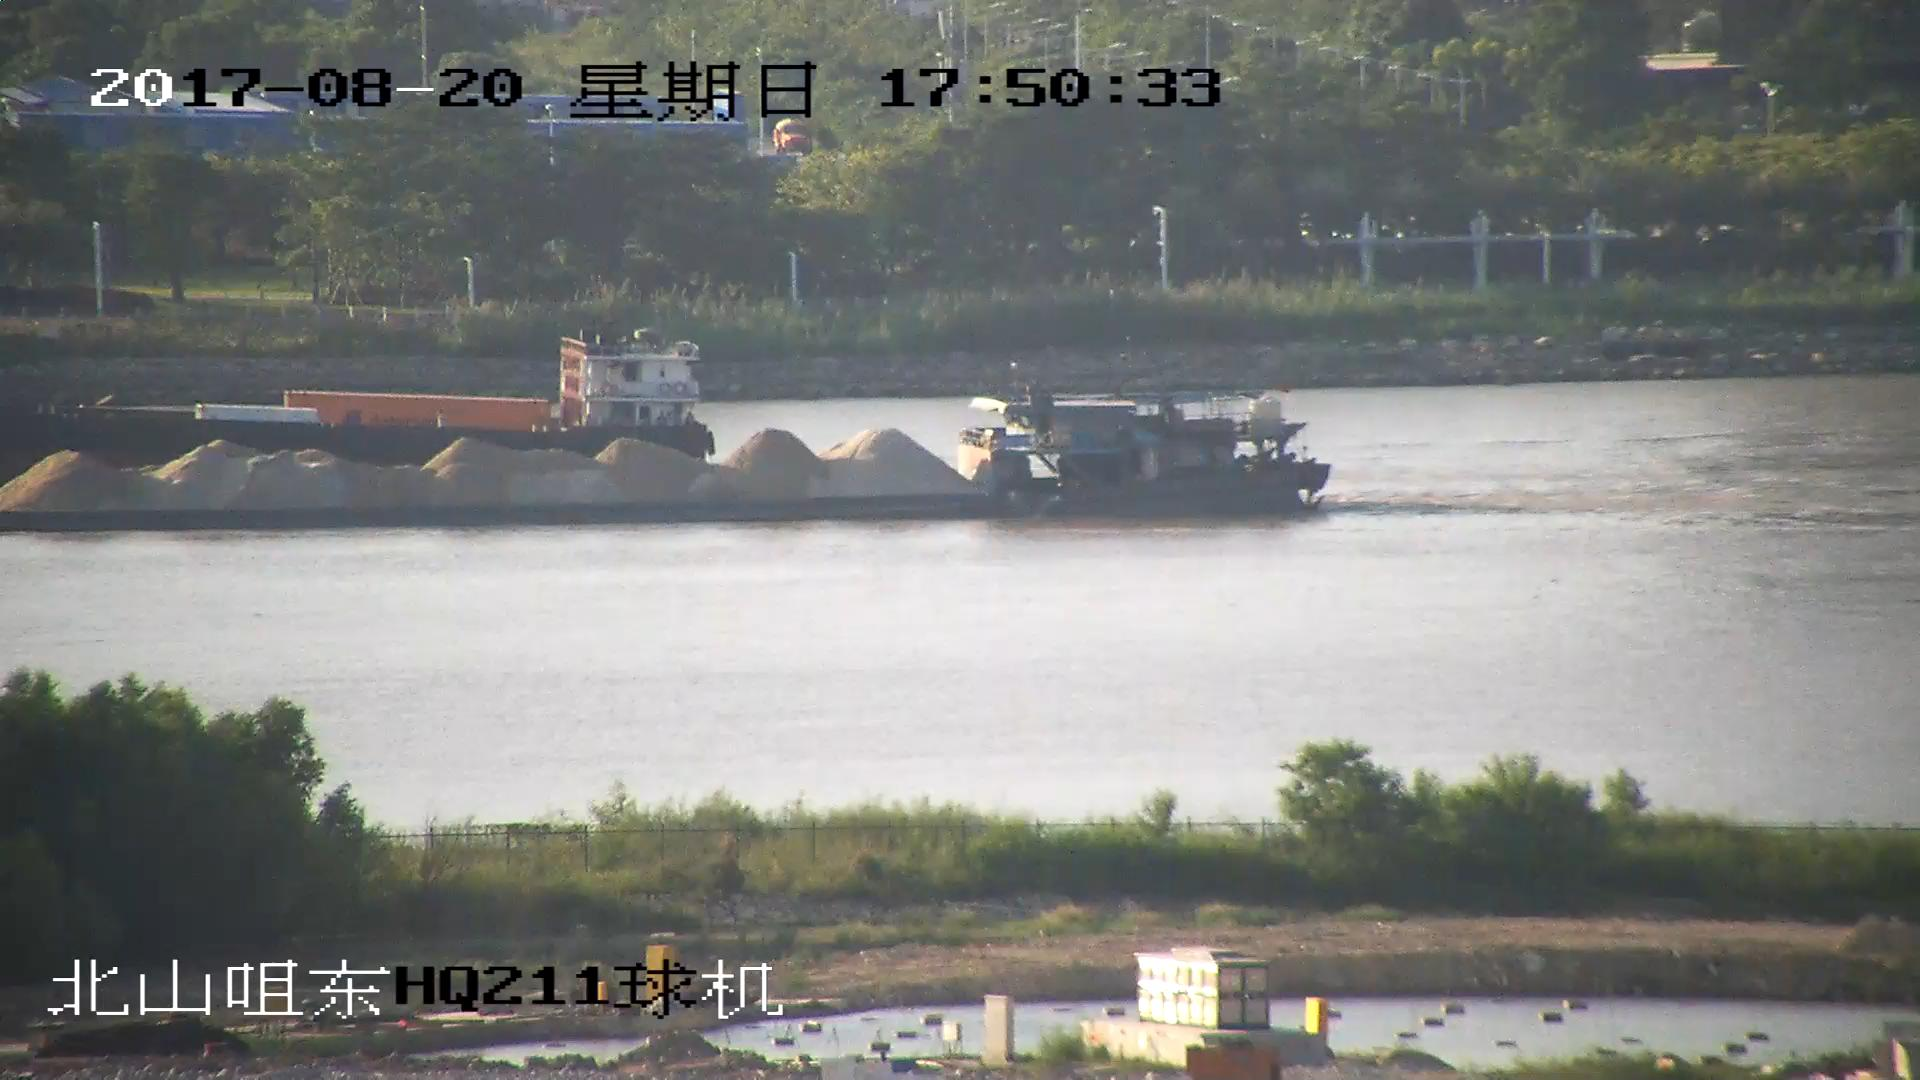general cargo ship: (1, 320, 716, 484)
ore carrier: (1, 375, 1329, 527)
